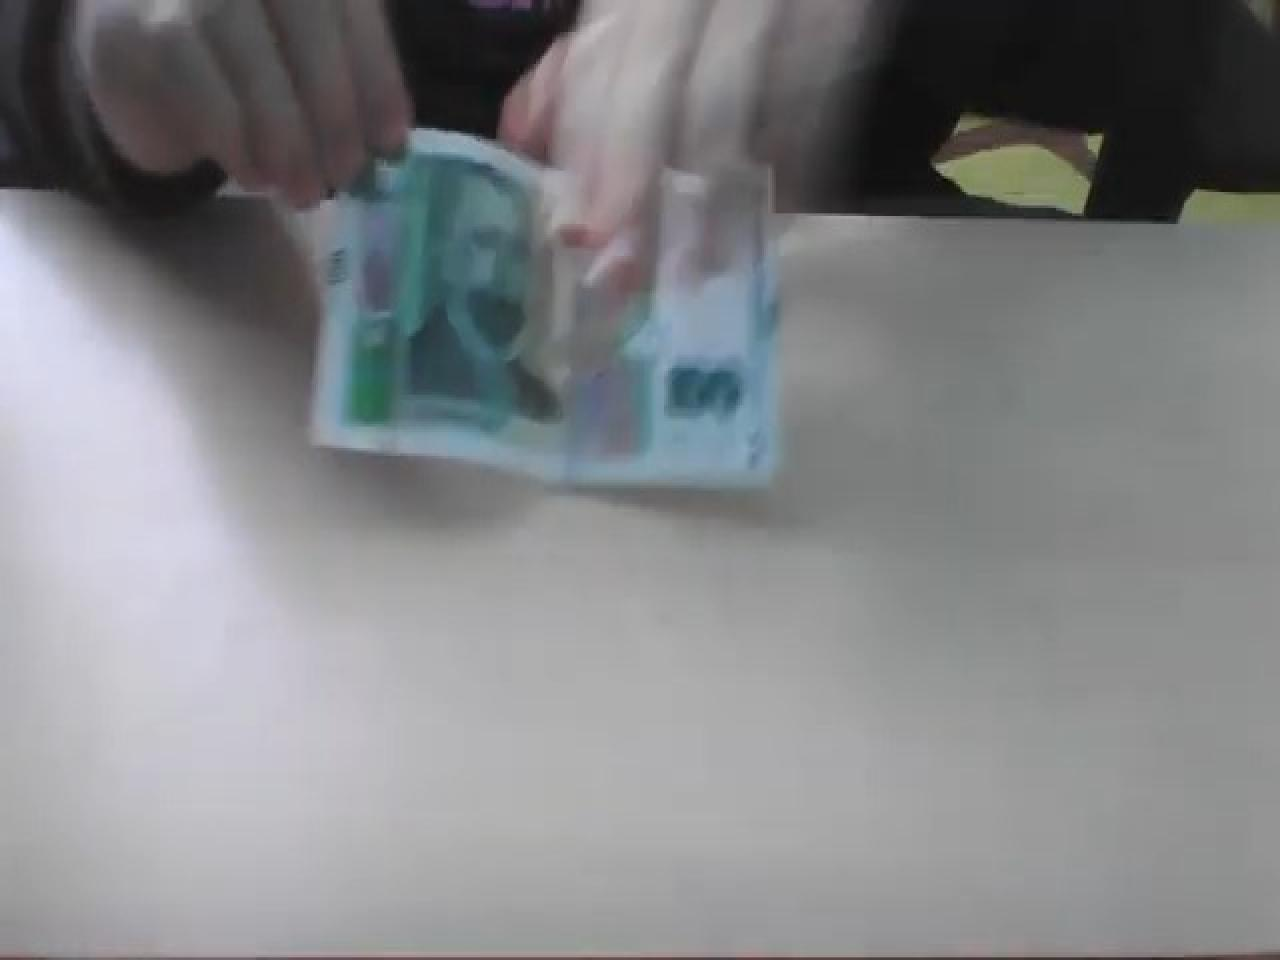100leva: (304, 120, 784, 493)
